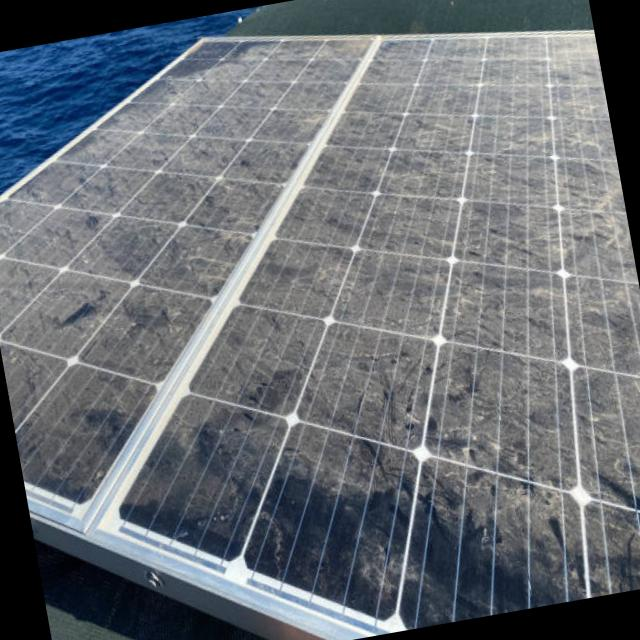faulty: (120, 38, 640, 630), (0, 35, 378, 509)
